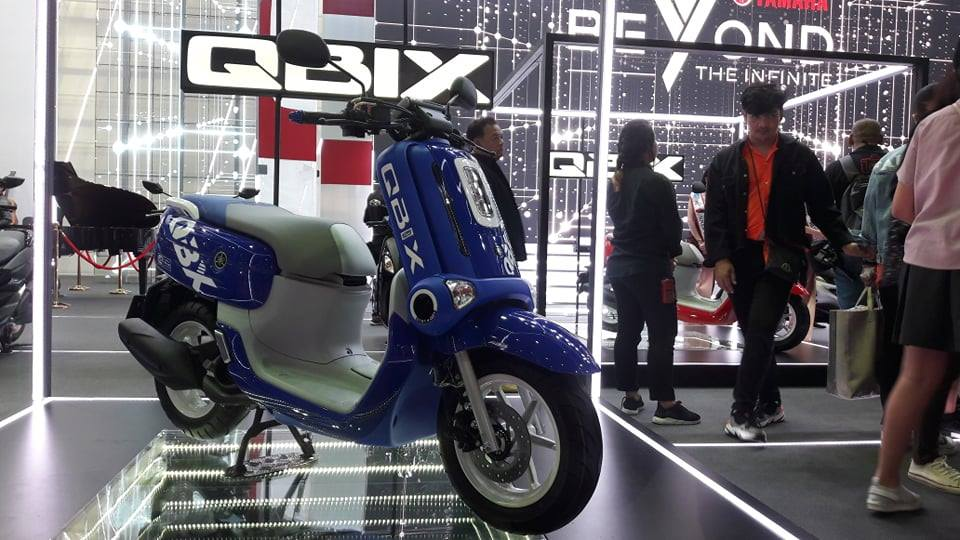motorcycle: (132, 99, 591, 527)
